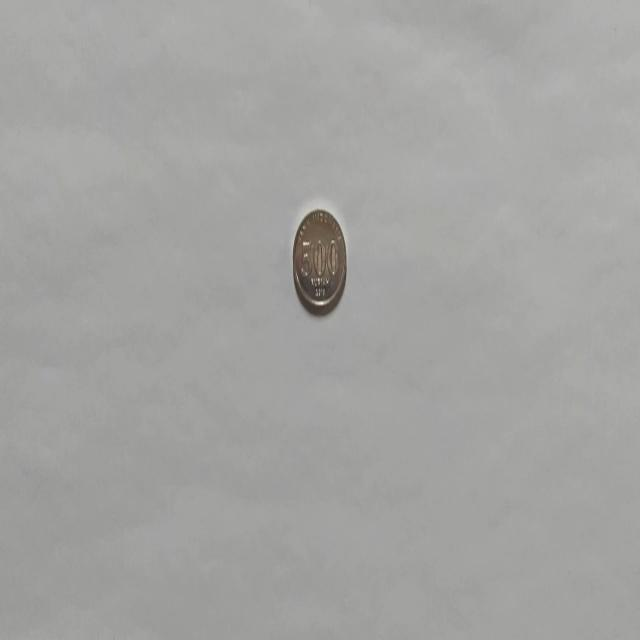lima ratus rupiah: (291, 207, 347, 316)
